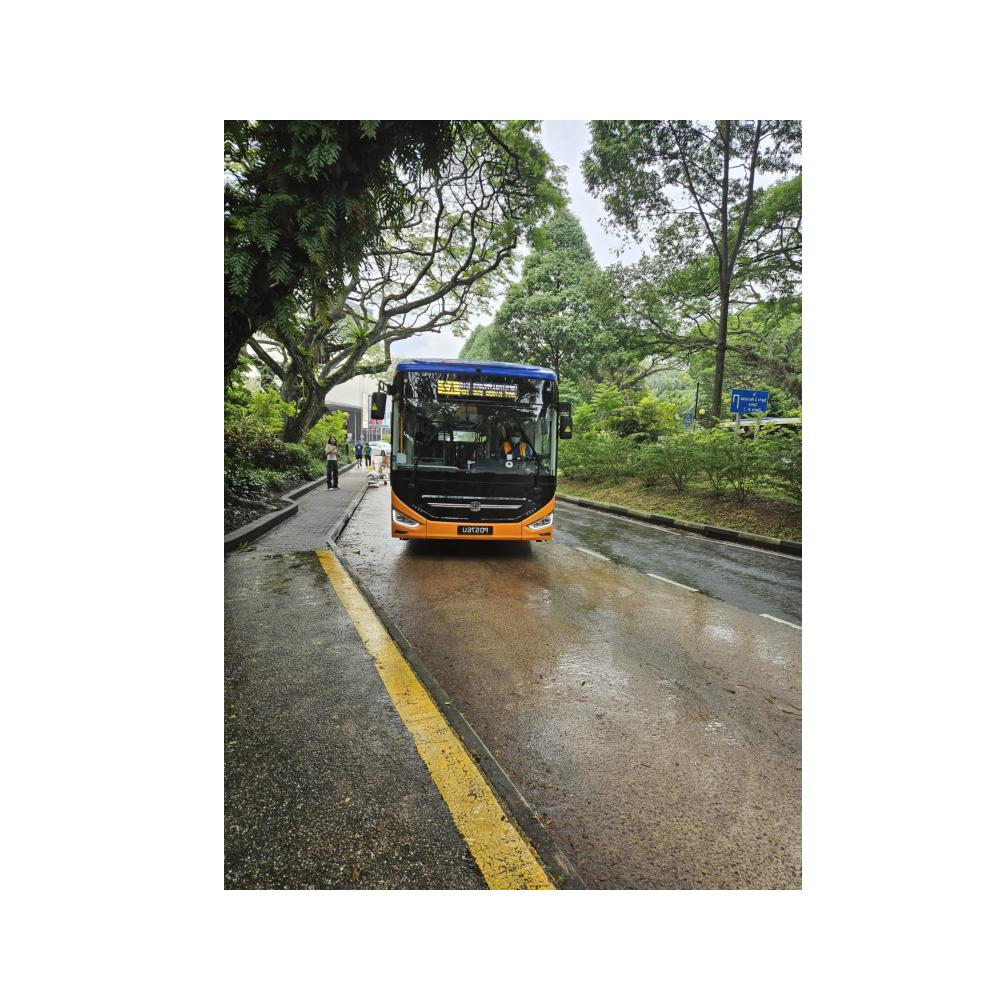bus: (371, 356, 574, 551)
